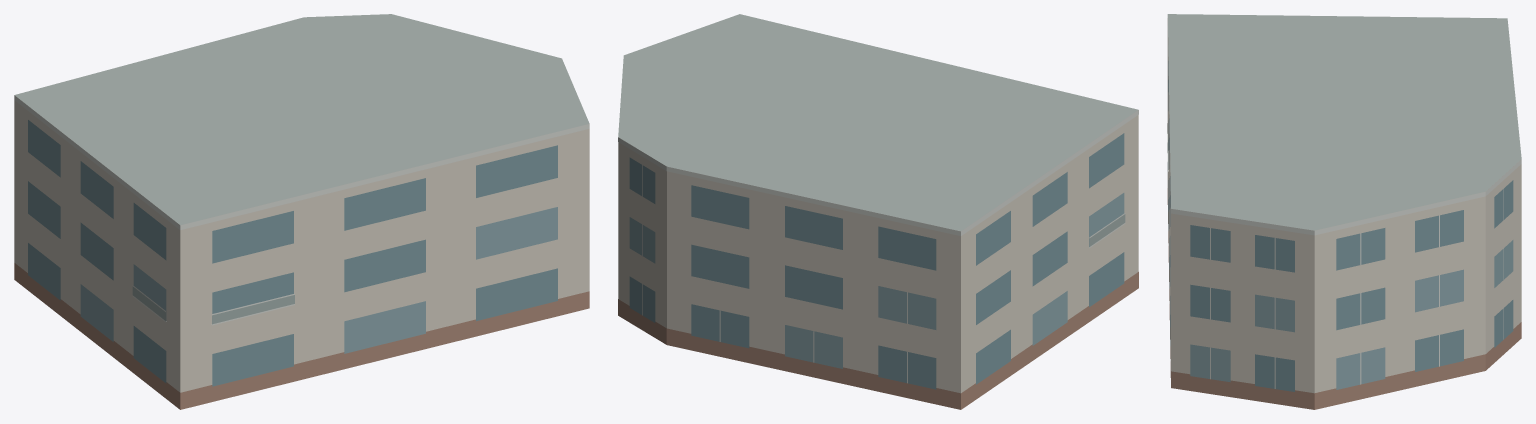
Rendered from survey-upis-33037822.glb.
3 views of the same model, side by side, from view 1: azimuth 30°, elevation 25°; view 2: azimuth 150°, elevation 25°; view 3: azimuth 270°, elevation 25° (orthographic). The views are drawn at different scales.
Visible parts, largest first — view 1: survey-upis-33037822.tmp; view 2: survey-upis-33037822.tmp; view 3: survey-upis-33037822.tmp.
Boxes of the visible parts, x1=… form: survey-upis-33037822.tmp: x1=14, y1=14, x2=589, y2=409; survey-upis-33037822.tmp: x1=618, y1=14, x2=1138, y2=409; survey-upis-33037822.tmp: x1=1167, y1=14, x2=1521, y2=409.
Size of the model in its own units: 23.73 by 9.15 by 16.41.
